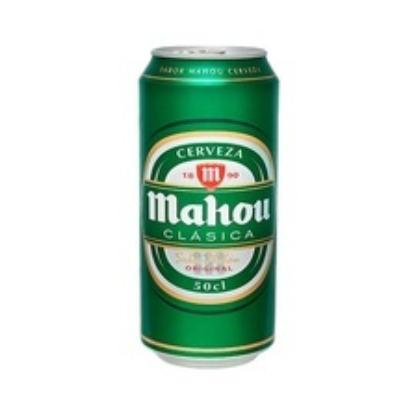Can: (139, 46, 279, 366)
